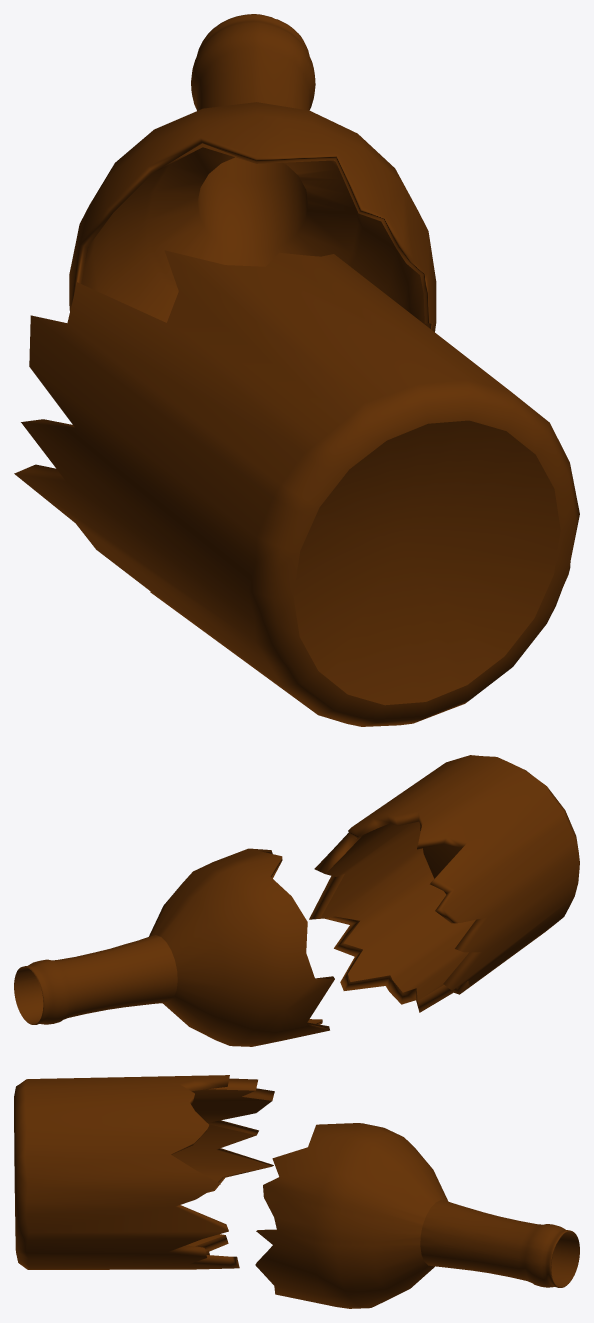
Rendered from Flasche_Braun_kaputt.fbx.
3 views of the same model, one above another, from view 1: azimuth 30°, elevation 25°; view 2: azimuth 150°, elevation 25°; view 3: azimuth 270°, elevation 25° (orthographic). The views are drawn at different scales.
Visible parts, largest first — view 1: pPipe4; view 2: pPipe4; view 3: pPipe4.
Boxes of the visible parts, bbox=[...] form: pPipe4: bbox=[14, 14, 579, 726]; pPipe4: bbox=[14, 755, 579, 1046]; pPipe4: bbox=[14, 1075, 579, 1308].
Size of the model in its own units: 39.1 by 22.95 by 65.33.
